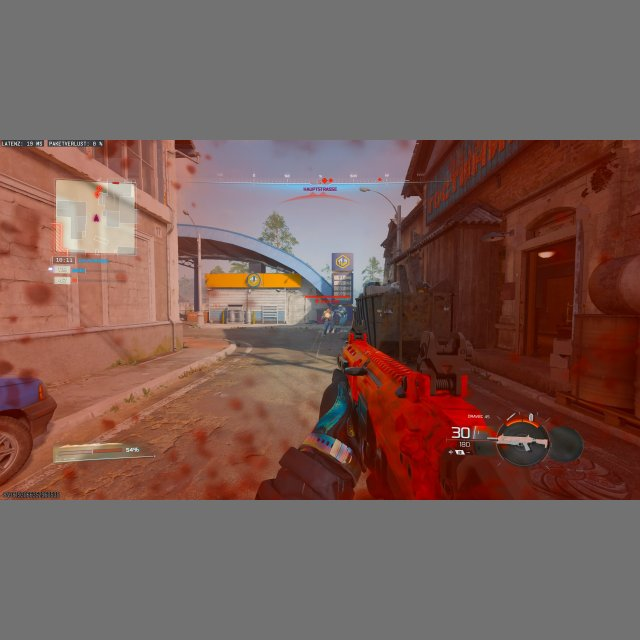player: (321, 309, 334, 335), (335, 306, 346, 330)
